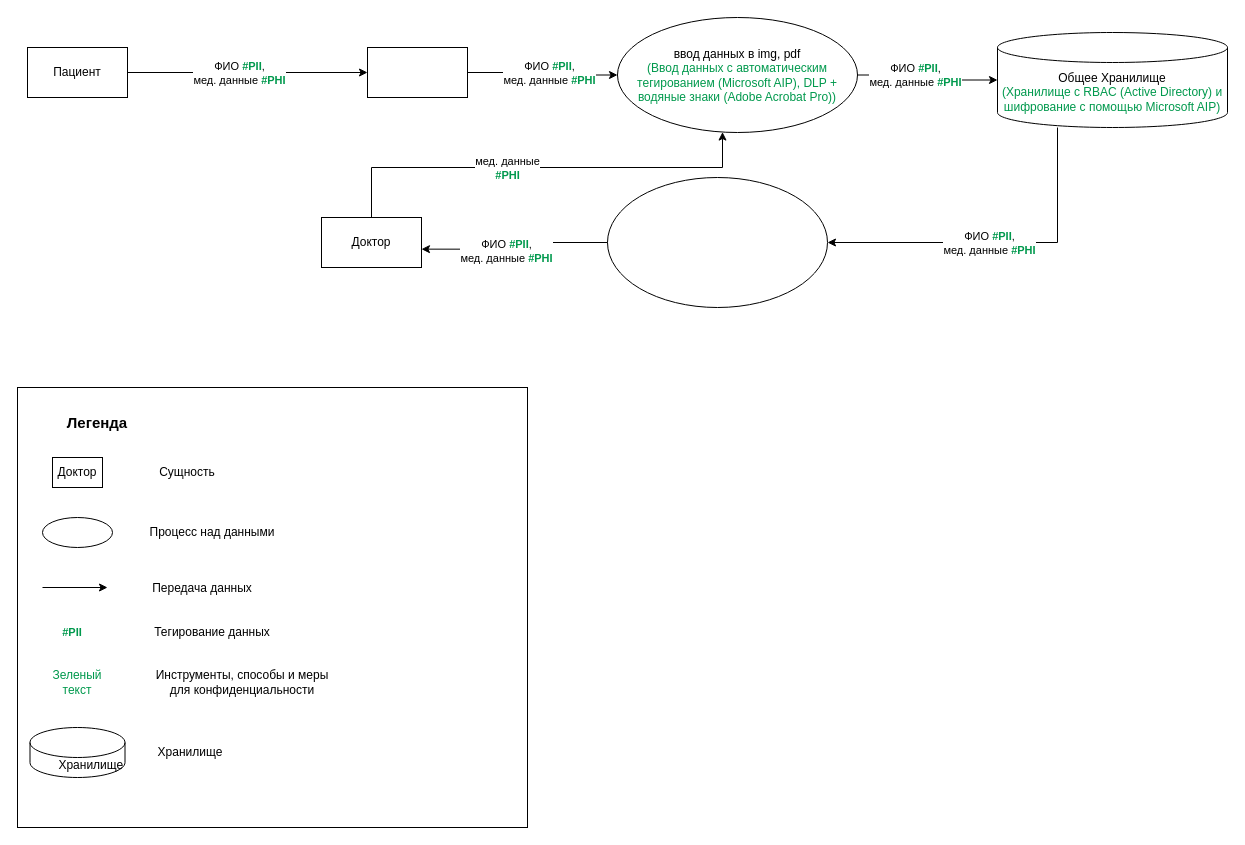
Image size: 1245x845. Some labels were removed from this diagram. The centre of each missing label's shape, as x and y in pixels:
"Администратор" belongs at [417,72].
"Предоставление данных (Доступ к полным данным по ролям)" belongs at [717,242].
"процесс" belongs at [77,532].
